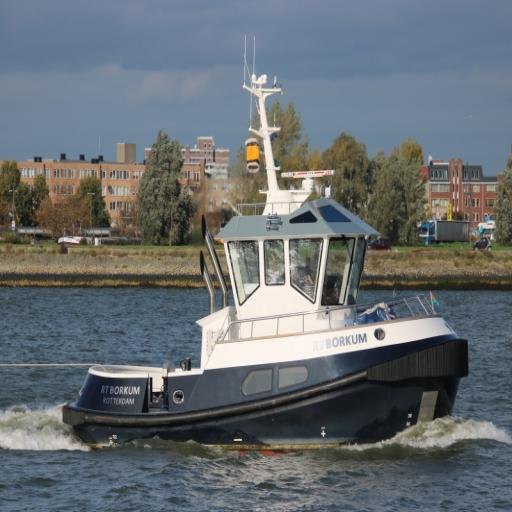tugboat: (57, 30, 474, 465)
